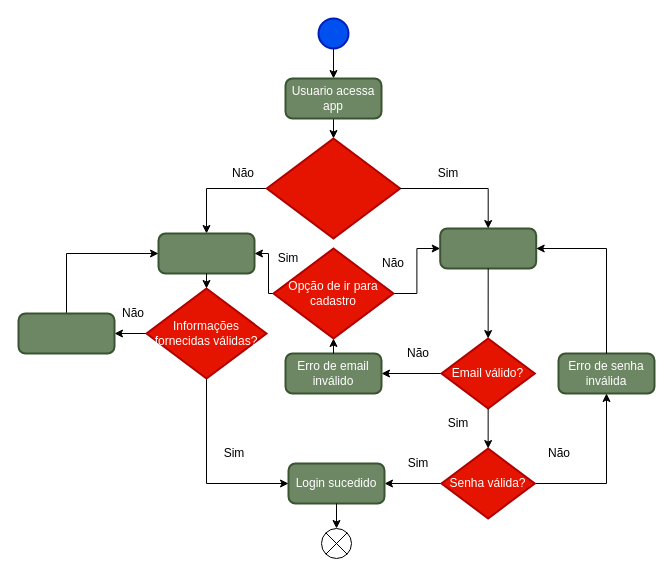
The diagram is 672 pixels wide and 576 high, and some of its shapes have lost their labels. Each missing label, with the centre of its shape:
Erro: pixel 66 333
Tela de cadastro: pixel 206 253
Tela de login: pixel 488 248
Usuário já possui cadastro?: pixel 333 188
